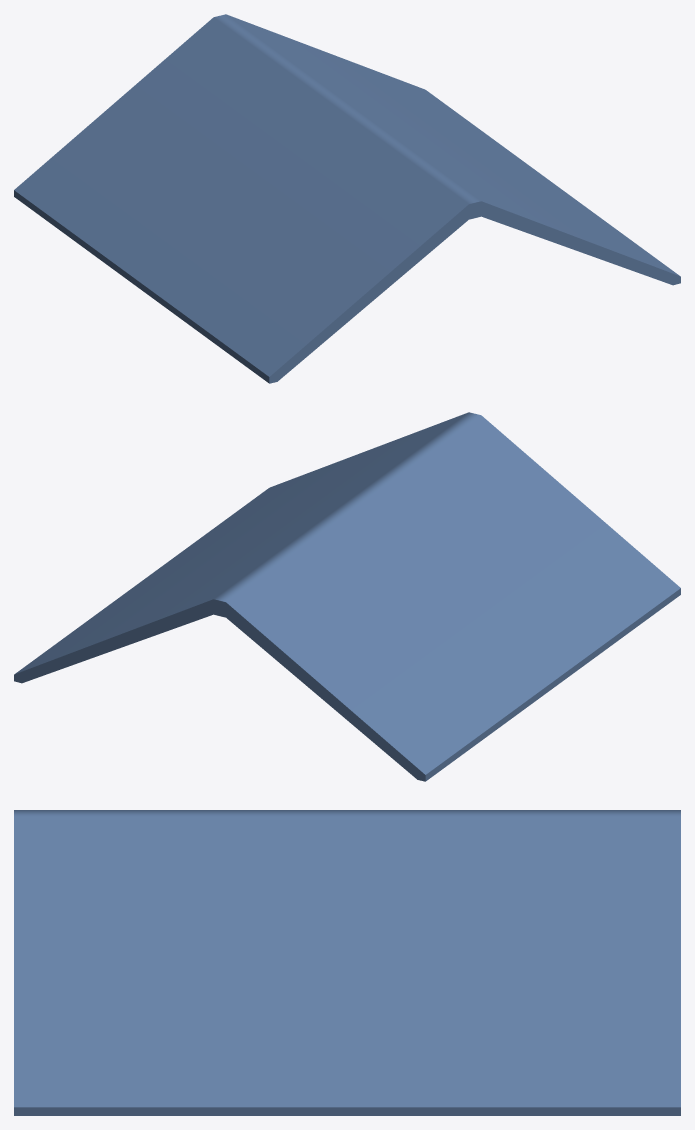
File: techo.fbx
The picture shows the model from 3 angles, top to bottom: view 1: azimuth 30°, elevation 25°; view 2: azimuth 150°, elevation 25°; view 3: azimuth 270°, elevation 25°; orthographic projection. The views are drawn at different scales.
Visible parts, largest first — view 1: techo; view 2: techo; view 3: techo.
Boxes of the visible parts, x1,y1,x2,y2 form: techo: (14, 14, 680, 383); techo: (14, 412, 680, 781); techo: (14, 810, 680, 1115).
Size of the model in its own units: 8.48 by 2.58 by 9.11.
